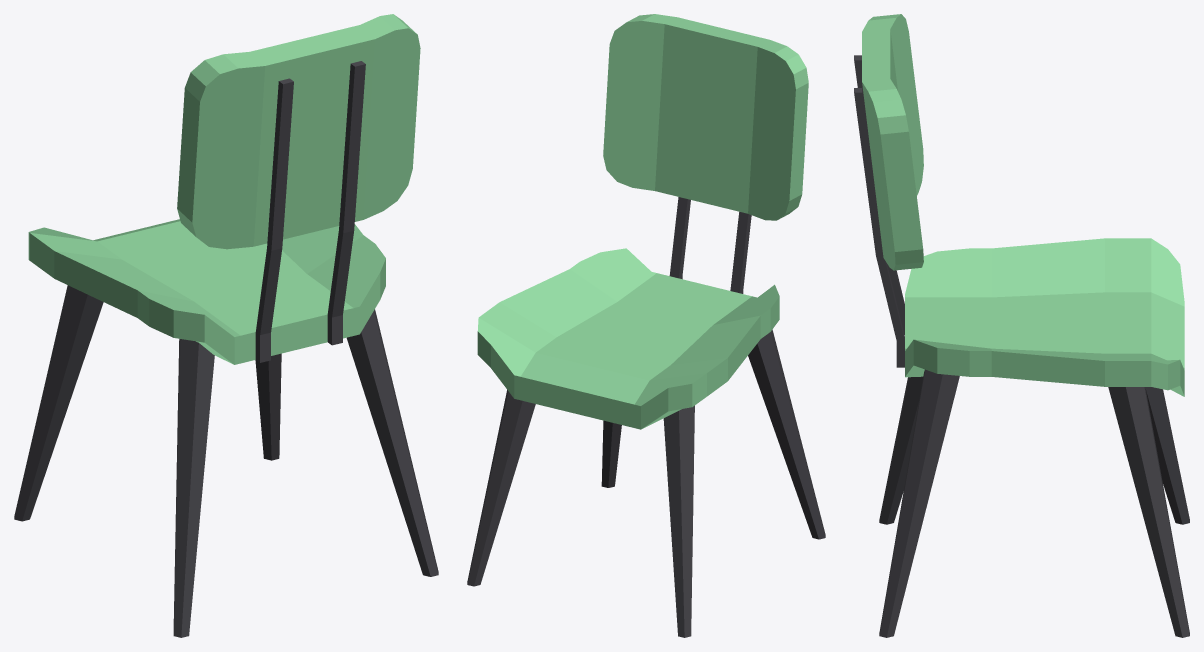
File: Chair.fbx
3 views of the same model, side by side, from view 1: azimuth 30°, elevation 25°; view 2: azimuth 150°, elevation 25°; view 3: azimuth 270°, elevation 25° (orthographic). The views are drawn at different scales.
Parts seen in each view (by area): view 1: Plane.258; view 2: Plane.258; view 3: Plane.258.
Boxes of the visible parts, x1,y1,x2,y2 form: Plane.258: (14,14,438,637); Plane.258: (467,14,825,637); Plane.258: (854,14,1189,637).
Size of the model in its own units: 1.12 by 1.3 by 2.24.
